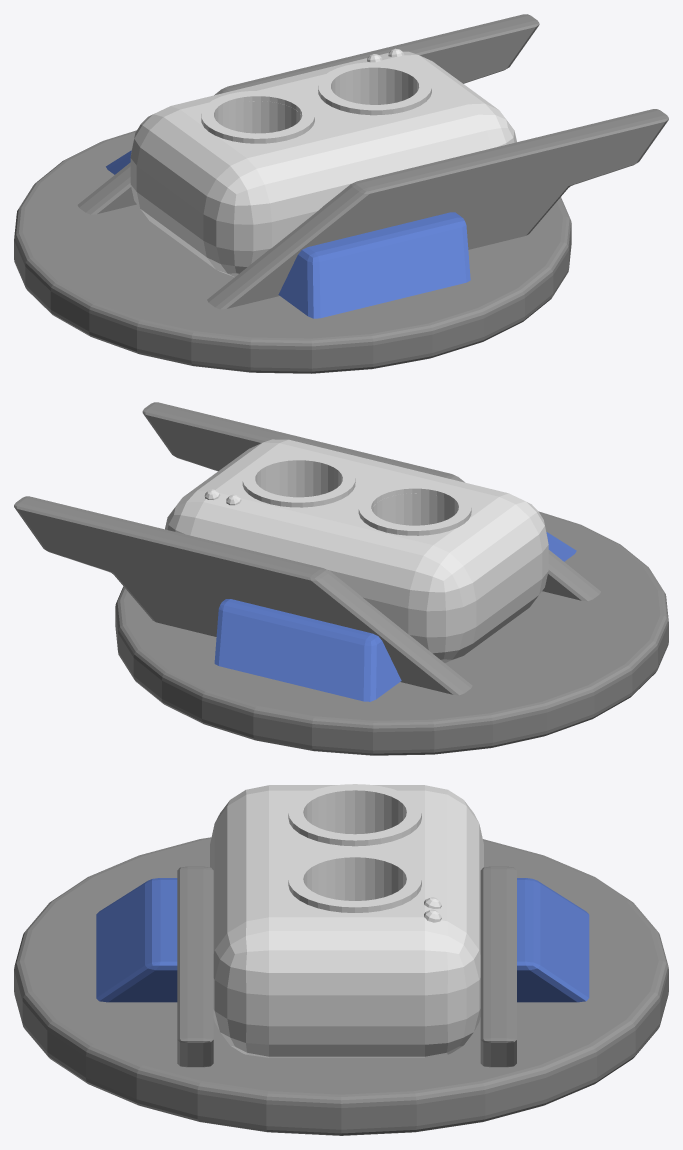
Rendered from rocketlauncher_test2_level1.fbx.
3 views of the same model, one above another, from view 1: azimuth 30°, elevation 25°; view 2: azimuth 150°, elevation 25°; view 3: azimuth 270°, elevation 25° (orthographic). The views are drawn at different scales.
Parts seen in each view (by area): view 1: Weapon_01_1.001, rocket2, Weapon_01_1.003, Weapon_01_1.002, rocket2.2, rocket2.1; view 2: Weapon_01_1.001, rocket2, Weapon_01_1.003, Weapon_01_1.002, rocket2.2, rocket2.1; view 3: Weapon_01_1.001, rocket2, Weapon_01_1.002, Weapon_01_1.003, rocket2.2, rocket2.1.
Boxes of the visible parts, bbox=[...] form: Weapon_01_1.001: bbox=[14, 130, 571, 373]; rocket2: bbox=[130, 51, 516, 276]; Weapon_01_1.003: bbox=[77, 14, 668, 309]; Weapon_01_1.002: bbox=[106, 150, 470, 318]; rocket2.2: bbox=[201, 90, 314, 143]; rocket2.1: bbox=[318, 62, 431, 115]; Weapon_01_1.001: bbox=[115, 511, 668, 755]; rocket2: bbox=[165, 439, 548, 662]; Weapon_01_1.003: bbox=[14, 402, 600, 695]; Weapon_01_1.002: bbox=[214, 532, 576, 701]; rocket2.2: bbox=[358, 483, 471, 535]; rocket2.1: bbox=[242, 455, 355, 507]; Weapon_01_1.001: bbox=[14, 837, 668, 1135]; rocket2: bbox=[210, 785, 483, 1057]; Weapon_01_1.002: bbox=[96, 878, 589, 1002]; Weapon_01_1.003: bbox=[177, 866, 516, 1067]; rocket2.2: bbox=[288, 784, 421, 846]; rocket2.1: bbox=[288, 851, 421, 912].
Size of the model in its own units: 101 by 25.78 by 89.18.
